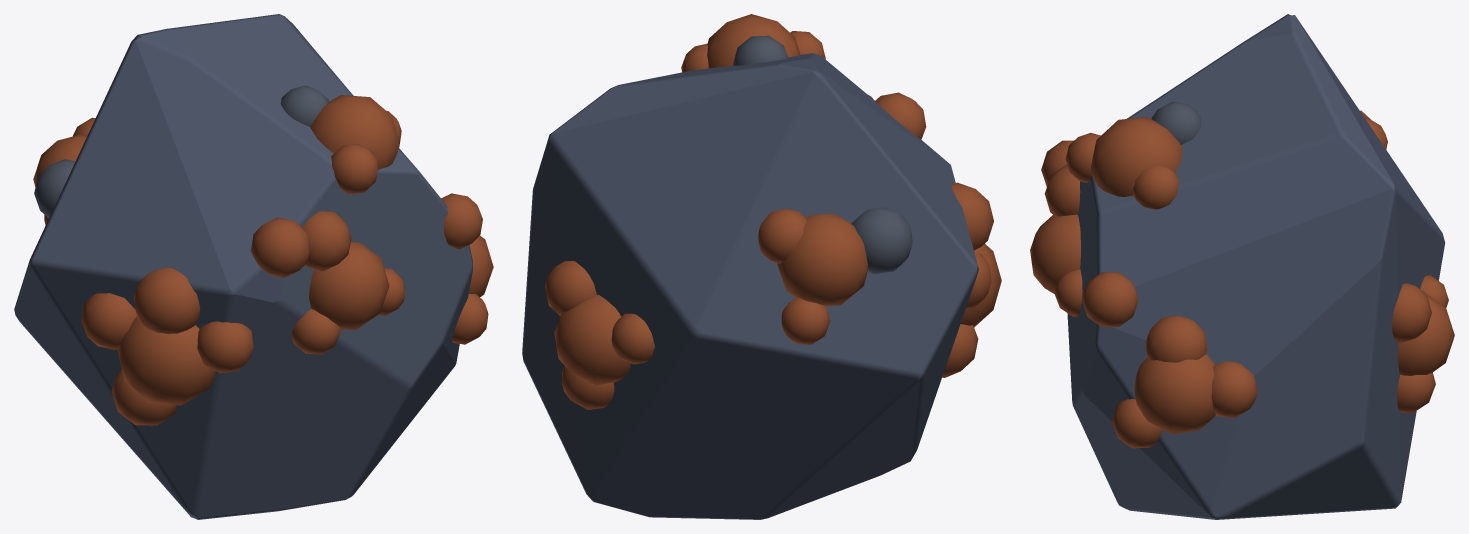
Rendered from item_iron_ore.glb.
3 renders of one model, left to right at view 1: azimuth 30°, elevation 25°; view 2: azimuth 150°, elevation 25°; view 3: azimuth 270°, elevation 25°, orthographic. The views are drawn at different scales.
Visible parts, largest first — view 1: IronOre; view 2: IronOre; view 3: IronOre.
Boxes of the visible parts, x1,y1,x2,y2 form: IronOre: (14, 14, 493, 519); IronOre: (522, 14, 1001, 519); IronOre: (1030, 14, 1454, 519).
Bounding box in the file's own units: 0.2721 × 0.2644 × 0.2355.
